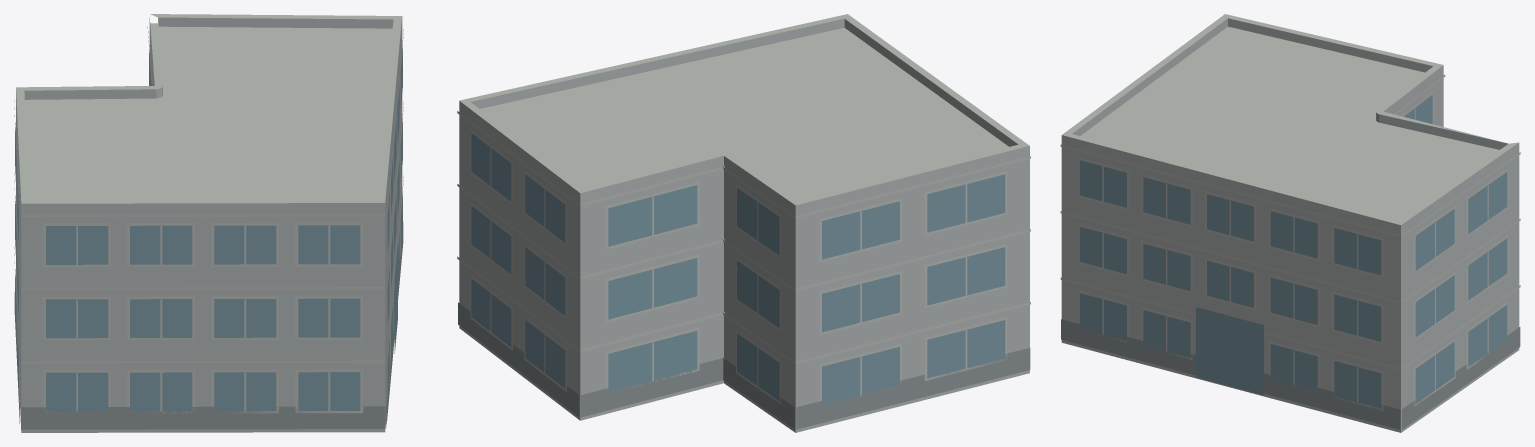
Rendered from public-7e19c2fb-b127-424d-b52f-ca6d8cafd65d.glb.
3 renders of one model, left to right at view 1: azimuth 30°, elevation 25°; view 2: azimuth 150°, elevation 25°; view 3: azimuth 270°, elevation 25°, orthographic. The views are drawn at different scales.
Visible parts, largest first — view 1: public-7e19c2fb-b127-424d-b52f-ca6d8cafd65d; view 2: public-7e19c2fb-b127-424d-b52f-ca6d8cafd65d; view 3: public-7e19c2fb-b127-424d-b52f-ca6d8cafd65d.
Boxes of the visible parts, <box> form: public-7e19c2fb-b127-424d-b52f-ca6d8cafd65d: <box>14,14,403,432</box>; public-7e19c2fb-b127-424d-b52f-ca6d8cafd65d: <box>457,14,1030,432</box>; public-7e19c2fb-b127-424d-b52f-ca6d8cafd65d: <box>1060,14,1520,432</box>.
Bounding box in the file's own units: 20.08 × 9.15 × 18.39.
